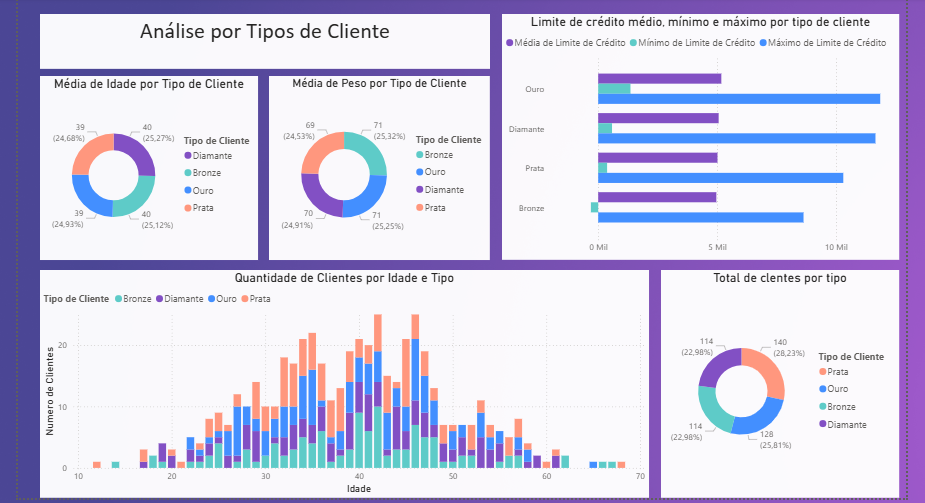

The dashboard page shown, as its layout file describes it:
{"tool":"powerbi","page":{"name":"Análise por Tipo do cliente","canvas":[1280,720],"ordinal":1},"visuals":[{"type":"donutChart","title":"Total de clentes por tipo","fields":{"Category":["Clientes.Tipo de Cliente"],"Y":["CountNonNull(Clientes.ID_Cliente)"]},"box":[925.9,391.7,342.7,328.3],"z":0},{"type":"columnChart","title":"Quantidade de Clientes por Idade e Tipo","fields":{"Series":["Clientes.Tipo de Cliente"],"Y":["CountNonNull(Clientes.ID_Cliente)"],"Category":["Clientes.Idade"]},"box":[31.7,391.7,877,328.3],"z":1000},{"type":"donutChart","fields":{"Category":["Clientes.Tipo de Cliente"],"Y":["Avg(Clientes.Idade)"]},"box":[31.7,112.3,313.9,265],"z":2000},{"type":"donutChart","fields":{"Category":["Clientes.Tipo de Cliente"],"Y":["Avg(Clientes.Peso)"]},"box":[361.4,112.3,318.2,265],"z":3000},{"type":"clusteredBarChart","title":"Limite de crédito médio, mínimo e máximo por tipo de cliente","fields":{"Y":["Avg(Clientes.Limite de Crédito)","Min(Clientes.Limite de Crédito)","Max(Clientes.Limite de Crédito)"],"Category":["Clientes.Tipo de Cliente"]},"box":[697,23,571.7,354.2],"z":4000},{"type":"textbox","box":[31.7,23,648,79.2],"z":5000}]}

Visuals, with their boxes on the page's 1280x720 design canvas (x1, y1, x2, y2). These are canvas units, not pixel positions in the 925x503 screenshot, which may show the page scaled, cropped or inside an application window:
"Total de clentes por tipo" donutChart: BBox(926, 392, 1269, 720)
"Quantidade de Clientes por Idade e Tipo" columnChart: BBox(32, 392, 909, 720)
donutChart - Clientes.Tipo de Cliente x Avg(Clientes.Idade): BBox(32, 112, 346, 377)
donutChart - Clientes.Tipo de Cliente x Avg(Clientes.Peso): BBox(361, 112, 680, 377)
"Limite de crédito médio, mínimo e máximo por tipo de cliente" clusteredBarChart: BBox(697, 23, 1269, 377)
textbox: BBox(32, 23, 680, 102)
